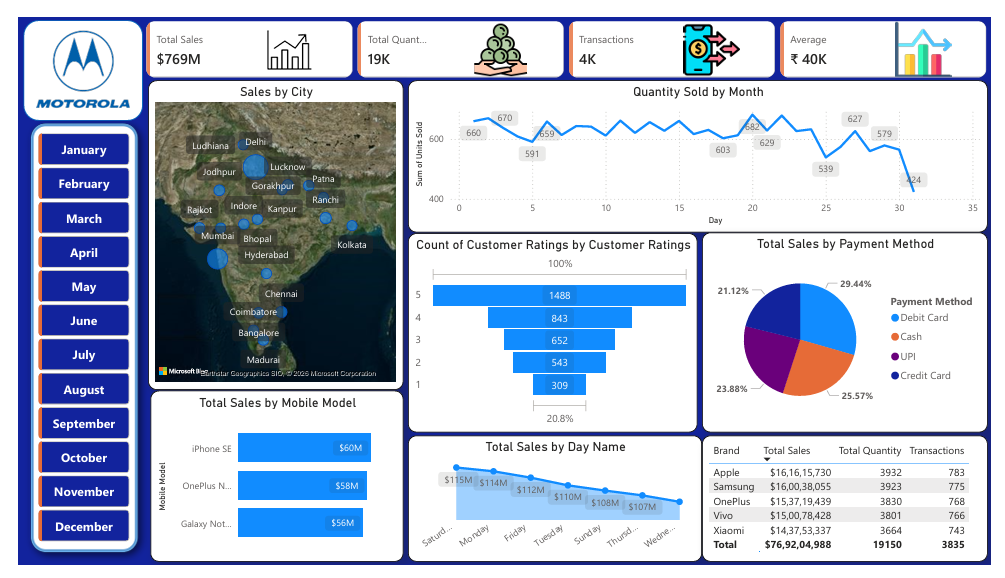

What the dashboard file says about the page in this screenshot:
{"tool":"powerbi","page":{"name":"Page 1","canvas":[1280,720],"ordinal":0},"visuals":[{"type":"shape","box":[0,122.9,174.3,597.1],"z":0},{"type":"shape","box":[7.1,4.3,157.1,131.4],"z":500},{"type":"image","box":[10,7.1,151.4,122.9],"z":1000},{"type":"advancedSlicerVisual","fields":{"Values":["Sales Data.Date.Variation.Date Hierarchy.Month"]},"box":[22.9,141.4,131.4,560],"z":2000},{"type":"cardVisual","fields":{"Data":["Sales Data.Total Sales","Sales Data.Total Quantity","Sales Data.Transactions","Sales Data.Average"]},"box":[164.3,0,1115.7,84.3],"z":3000},{"type":"map","title":"Sales by City","fields":{"Category":["Sales Data.City"],"Size":["Sales Data.Total Sales"]},"box":[171.4,82.9,335.7,407.1],"z":4000},{"type":"lineChart","title":"Quantity Sold by Month","fields":{"Y":["Sum(Sales Data.Units Sold)"],"Category":["Sales Data.Date.Variation.Date Hierarchy.Month","Sales Data.Date.Variation.Date Hierarchy.Day"]},"box":[512.9,82.9,762.9,200],"z":5000},{"type":"barChart","fields":{"Category":["Sales Data.Mobile Model"],"Y":["Sales Data.Total Sales"]},"box":[174.3,491.4,332.9,224.3],"z":6000},{"type":"pieChart","fields":{"Y":["Sales Data.Total Sales"],"Category":["Sales Data.Payment Method"]},"box":[900,282.9,375.7,262.9],"z":7000},{"type":"funnel","fields":{"Category":["Sales Data.Customer Ratings"],"Y":["CountNonNull(Sales Data.Customer Ratings)"]},"box":[512.9,284.3,381.4,261.4],"z":8000},{"type":"stackedAreaChart","fields":{"Category":["Sales Data.Day Name"],"Y":["Sales Data.Total Sales"]},"box":[512.9,550,387.1,165.7],"z":9000},{"type":"pivotTable","fields":{"Rows":["Sales Data.Brand"],"Values":["Sales Data.Total Sales","Sales Data.Total Quantity","Sales Data.Transactions"]},"box":[900,550,375.7,165.7],"z":10000}]}

Visuals, with their boxes in screenshot pixels (x1, y1, x2, y2), scaled from the page's 1280x720 canvas onto the 1005x578 screenshot:
shape: crop(0, 99, 137, 577)
shape: crop(6, 3, 129, 109)
image: crop(8, 6, 127, 104)
advancedSlicerVisual - Sales Data.Date.Variation.Date Hierarchy.Month: crop(18, 114, 121, 563)
cardVisual - Sales Data.Total Sales x Sales Data.Total Quantity: crop(129, 0, 1004, 68)
"Sales by City" map: crop(135, 67, 398, 393)
"Quantity Sold by Month" lineChart: crop(403, 67, 1002, 227)
barChart - Sales Data.Mobile Model x Sales Data.Total Sales: crop(137, 394, 398, 575)
pieChart - Sales Data.Total Sales x Sales Data.Payment Method: crop(707, 227, 1002, 438)
funnel - Sales Data.Customer Ratings x CountNonNull(Sales Data.Customer Ratings): crop(403, 228, 702, 438)
stackedAreaChart - Sales Data.Day Name x Sales Data.Total Sales: crop(403, 442, 707, 575)
pivotTable - Sales Data.Brand x Sales Data.Total Sales: crop(707, 442, 1002, 575)
